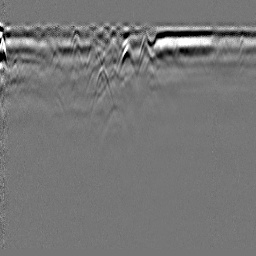cavity: (116, 41, 138, 76)
